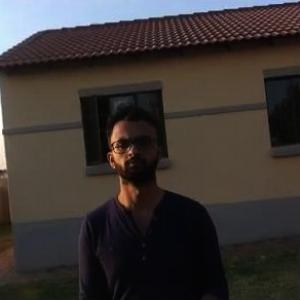follow: (73, 102, 233, 299)
